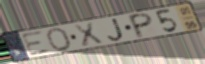5: (154, 7, 179, 34)
E: (20, 29, 53, 57)
J: (106, 17, 126, 42)
O: (45, 27, 74, 52)
P: (128, 12, 154, 40)
X: (71, 21, 106, 48)
